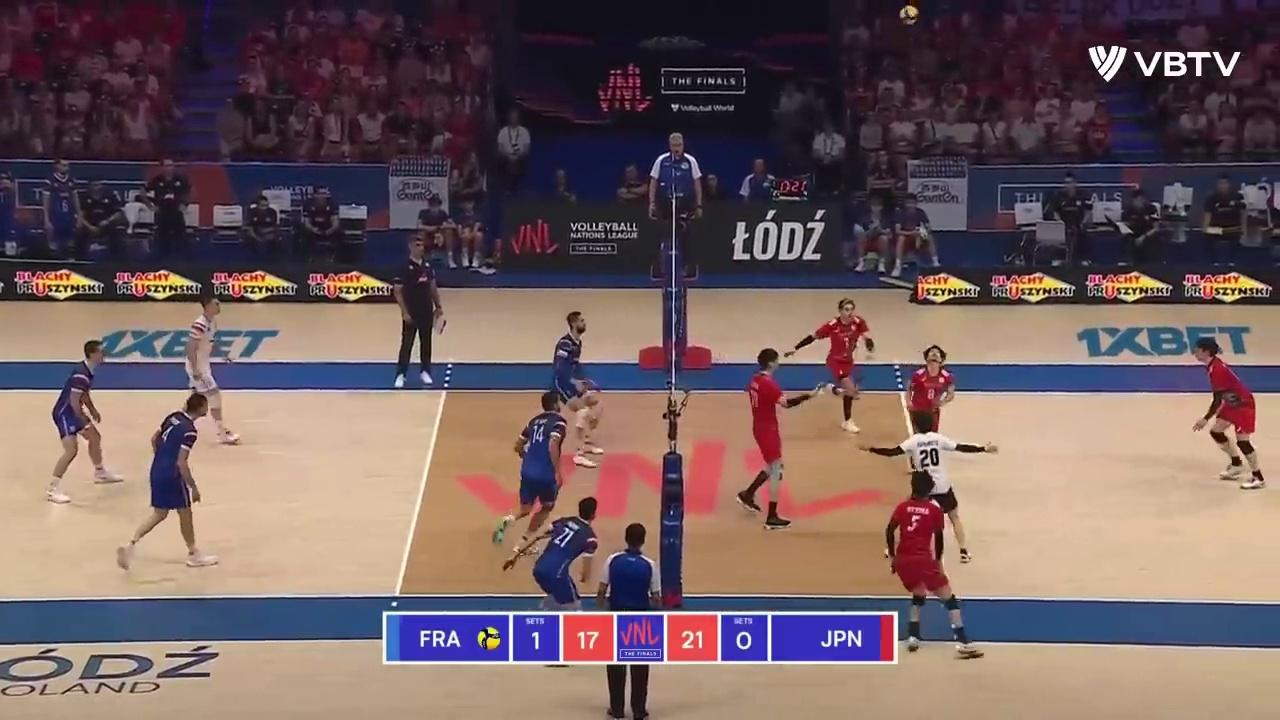ball: (899, 7, 917, 24)
